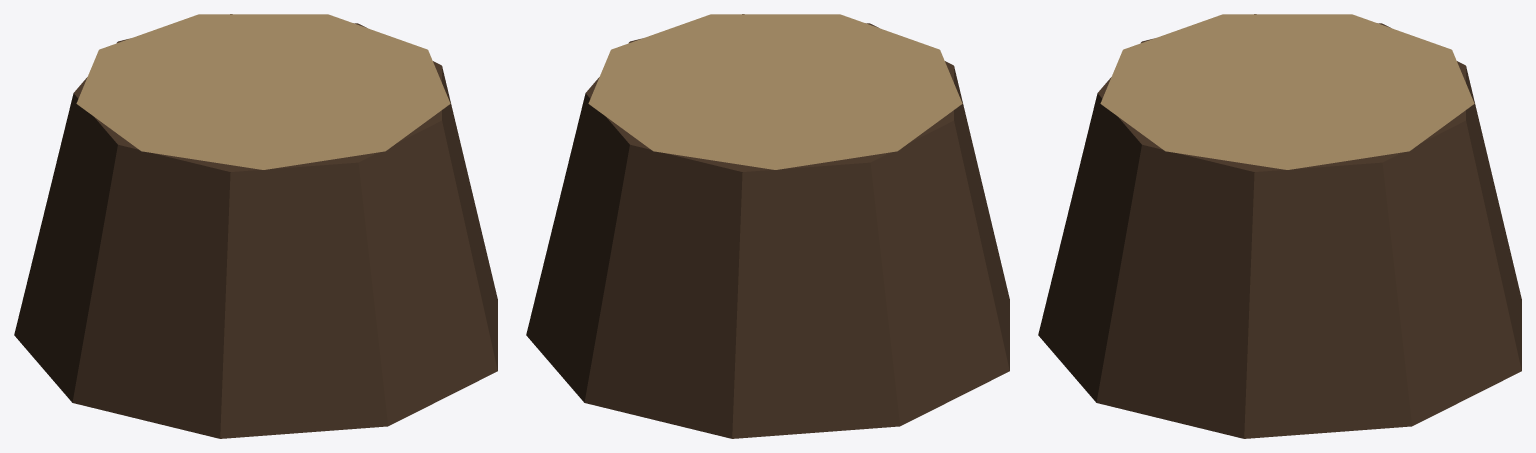
The model's file is stump.glb.
3 renders of one model, left to right at view 1: azimuth 30°, elevation 25°; view 2: azimuth 150°, elevation 25°; view 3: azimuth 270°, elevation 25°, orthographic.
Visible parts, largest first — view 1: part_0; view 2: part_0; view 3: part_0.
Boxes of the visible parts, left/top/right/bottom form: part_0: left=14, top=14, right=497, bottom=438; part_0: left=526, top=14, right=1009, bottom=438; part_0: left=1038, top=14, right=1521, bottom=438.
Size of the model in its own units: 0.8272 by 0.456 by 0.8147.
